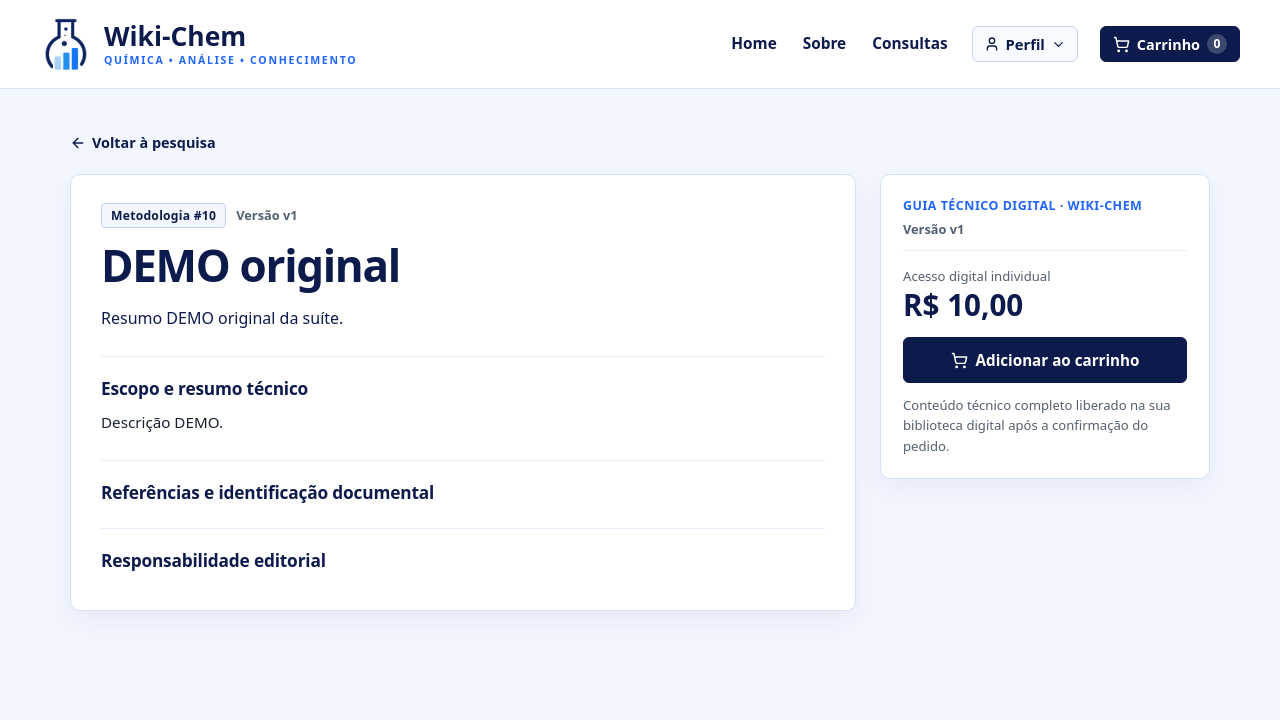
Test case: oferta, contador dinâmico no cabeçalho e carrinho na interface › adiciona somente após resposta real do contrato e atualiza contador dinâmico do carrinho no cabeçalho
The width and height of the screenshot is (1280, 720).
Expected: the text "R$ 10,00" is shown, [903, 284, 1023, 324]
Expected: the link with aria-label "Carrinho (0 itens)" is shown, [1100, 26, 1240, 62]
Click the button "Adicionar ao carrinho". click: (1045, 360)
box: [903, 337, 1187, 383]
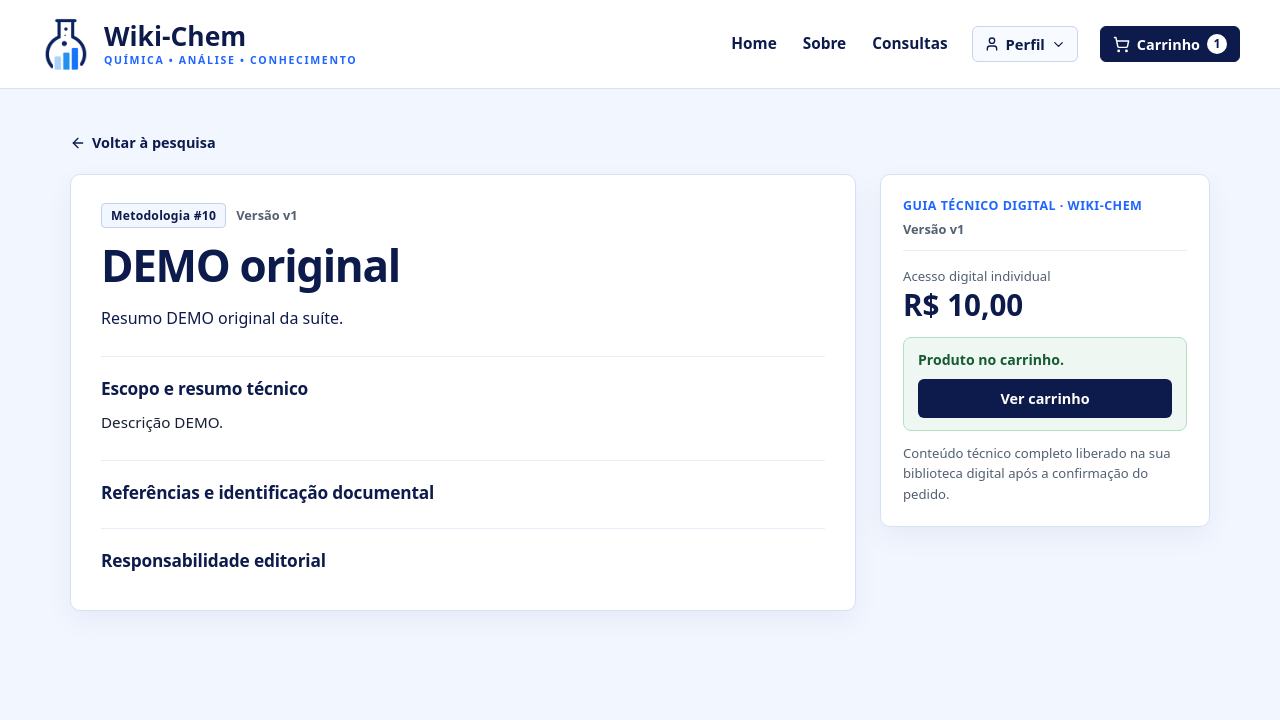
Expected: the message shows "Produto no carrinho", [918, 350, 1064, 369]
Expected: the link with aria-label "Carrinho (1 item)" is shown, [1100, 26, 1240, 62]
